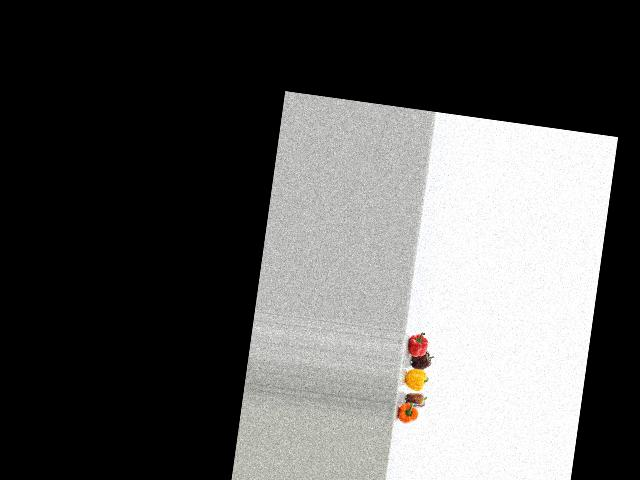bell_pepper: (394, 400, 426, 426)
